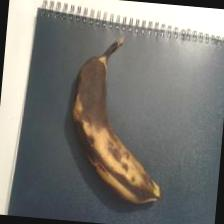Banana Rotten: (58, 23, 180, 204)
